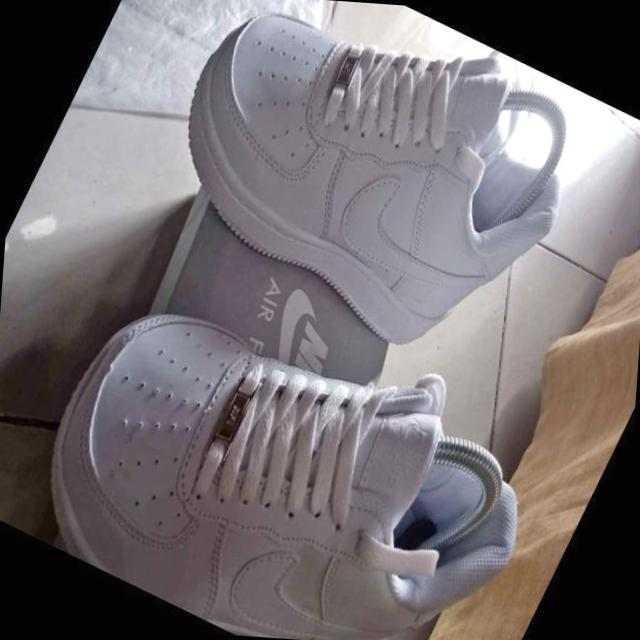nike_fake_airforce: (0, 240, 559, 640), (120, 0, 617, 394)
